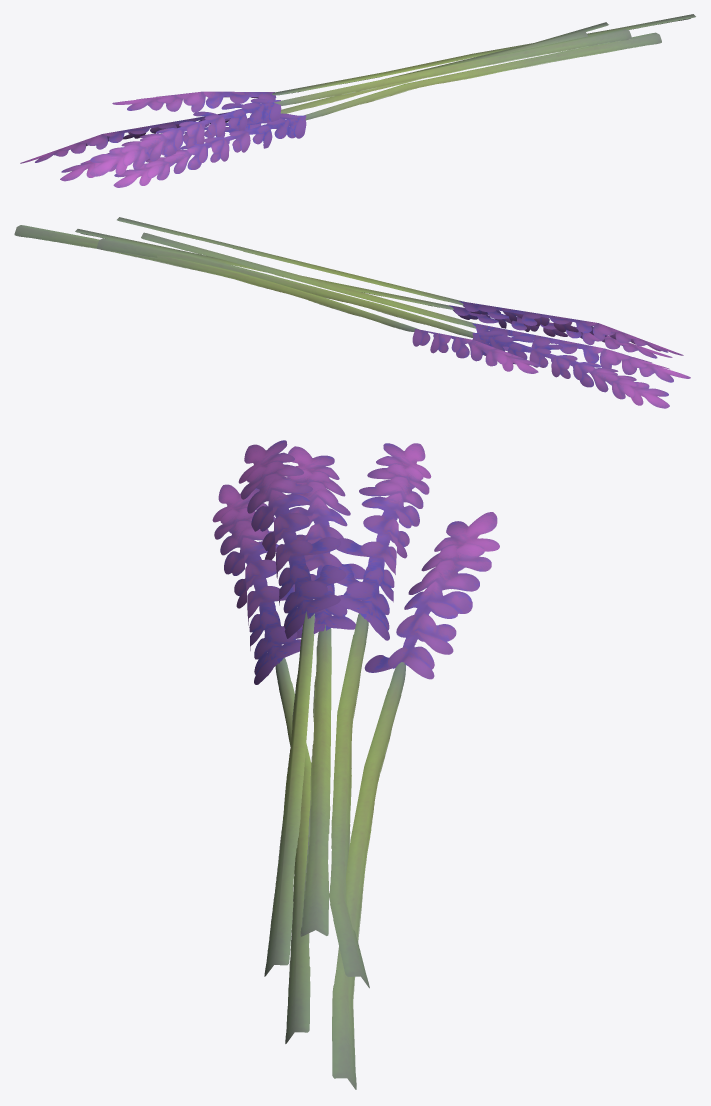
File: SM_Potion_Props_Herb_01.fbx
3 renders of one model, top to bottom at view 1: azimuth 30°, elevation 25°; view 2: azimuth 150°, elevation 25°; view 3: azimuth 270°, elevation 25°, orthographic. The views are drawn at different scales.
Parts seen in each view (by area): view 1: SM_Potion_Props_Herb_01_LOD0; view 2: SM_Potion_Props_Herb_01_LOD0; view 3: SM_Potion_Props_Herb_01_LOD0.
Part boxes in pixels (x1,y1,x2,y2): SM_Potion_Props_Herb_01_LOD0: [20, 14, 695, 187]; SM_Potion_Props_Herb_01_LOD0: [14, 217, 690, 408]; SM_Potion_Props_Herb_01_LOD0: [212, 440, 499, 1089].
Size of what is drawn, in the model's own units: 51.22 by 2.49 by 9.8.
